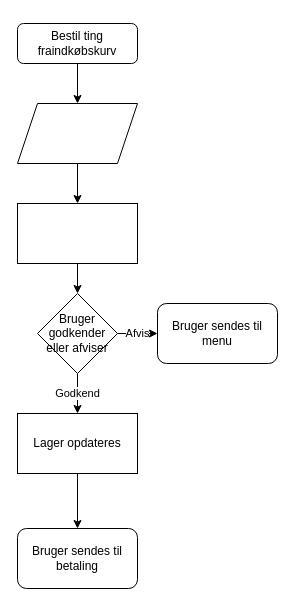
This 295x606 diagram has some shape labels left out. The shapes that lost their labels are listed below. From the top down, each one's centre as x and y in pixels, then its label:
At point 77,133: "Bruger vælger indkøbskurv fra menu".
At point 77,233: "System læser og printer varer, antal og samlet pris i indkøbskurv".
